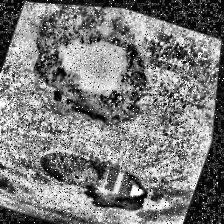pothole: (15, 1, 166, 134), (80, 154, 158, 220), (0, 153, 23, 191)
